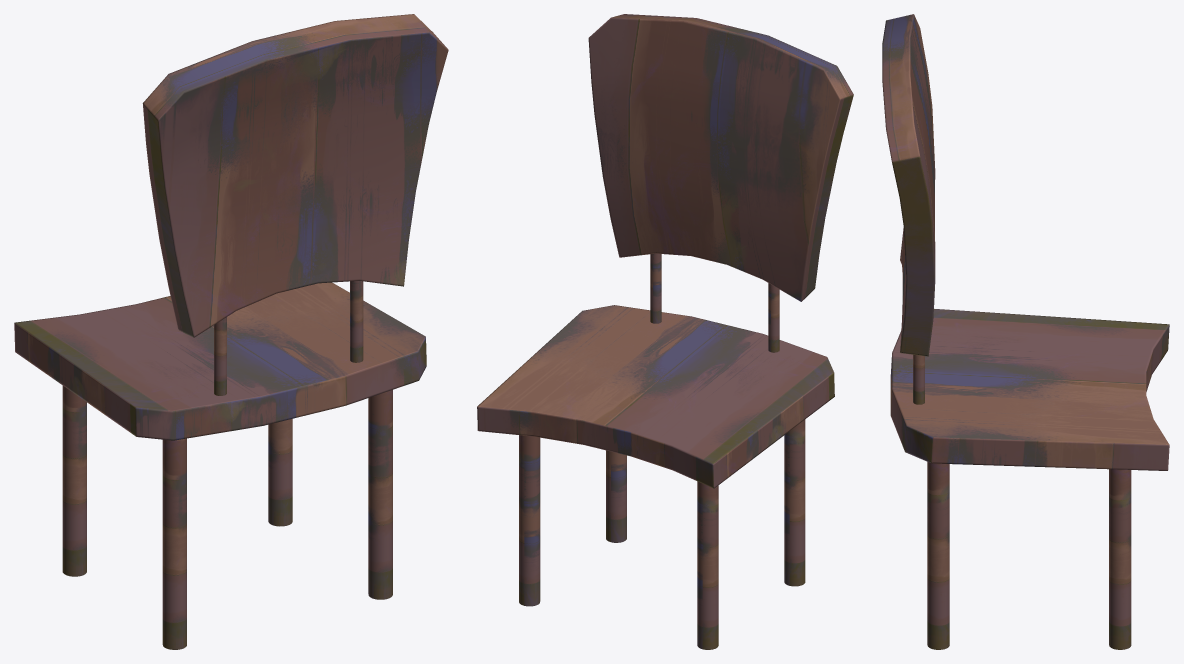
Rendered from PC_Chair.fbx.
The picture shows the model from 3 angles, left to right: view 1: azimuth 30°, elevation 25°; view 2: azimuth 150°, elevation 25°; view 3: azimuth 270°, elevation 25°; orthographic projection. The views are drawn at different scales.
Visible parts, largest first — view 1: pCube13, pCube12, pCylinder22, pCylinder23, pCylinder21; view 2: pCube13, pCube12, pCylinder23, pCylinder22, pCylinder21; view 3: pCube12, pCube13, pCylinder22, pCylinder23, pCylinder21.
Part boxes in pixels (x1,y1,x2,y2): pCube13: (142,14,448,337); pCube12: (14,282,426,440); pCylinder22: (162,390,392,649); pCylinder23: (62,386,292,576); pCylinder21: (214,281,363,395); pCube13: (588,14,853,301); pCube12: (477,305,834,488); pCylinder23: (519,435,718,649); pCylinder22: (606,419,805,586); pCylinder21: (650,253,779,352); pCube12: (890,309,1169,470); pCube13: (882,14,935,356); pCylinder22: (927,462,949,649); pCylinder23: (1109,469,1131,649); pCylinder21: (913,354,924,404).
Bounding box in the file's own units: 59.91 × 118 × 56.6.
